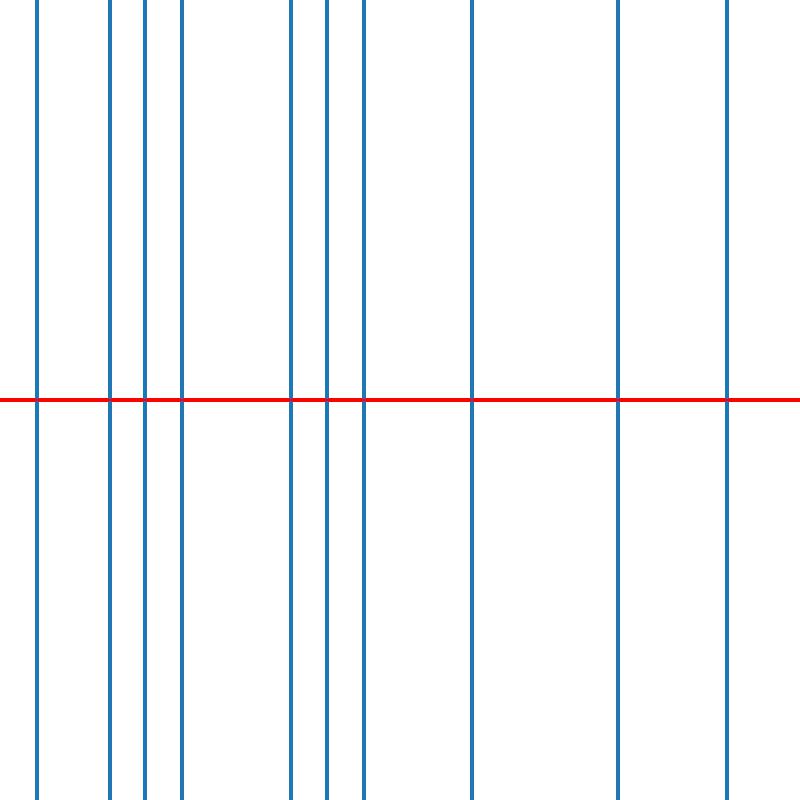root: (141, 396, 149, 404), (32, 396, 40, 404), (614, 396, 621, 404), (469, 396, 476, 404), (360, 396, 367, 404), (105, 396, 112, 404), (323, 396, 330, 404), (723, 396, 730, 404), (178, 396, 185, 404), (287, 396, 294, 404)
